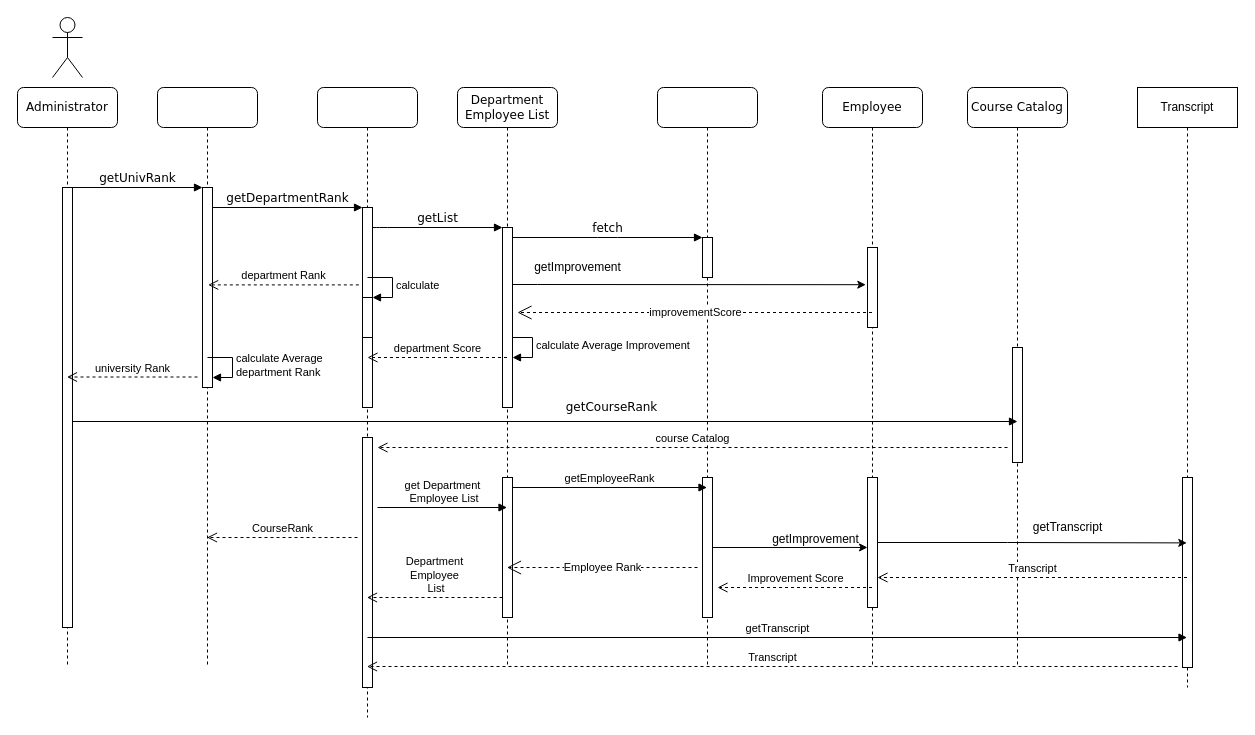
Image size: 1255x735. Some labels were removed from this diagram. The shapes that lost their labels are listed below. From the top down, each one's box as (x1, y1, x2, y2) in pixels, then its label:
(156, 86, 258, 668): University
(656, 86, 758, 668): Employee List
(316, 86, 418, 718): Department
